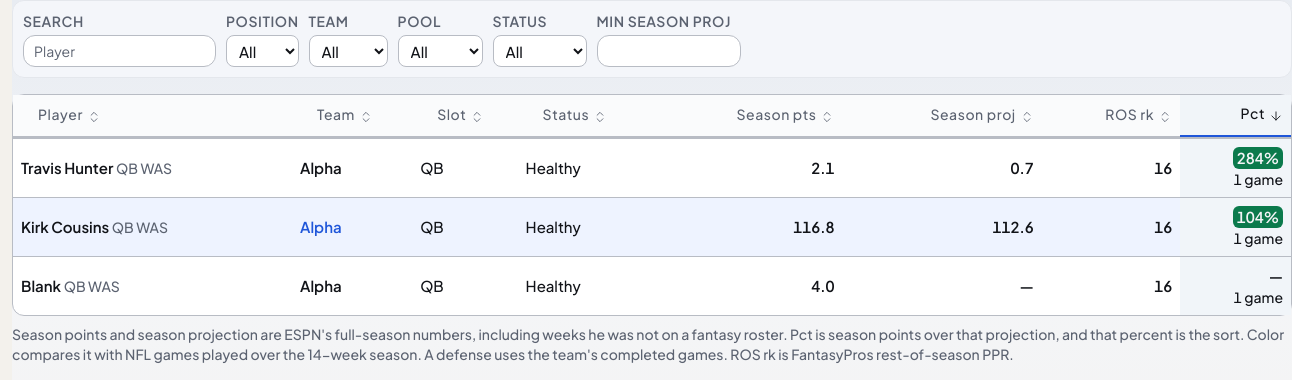
Scenario: AcquireTable pace › hides a season projection below the minimum
In the field labelled "Min season proj": (669, 51) [597,35,741,67], type "10"
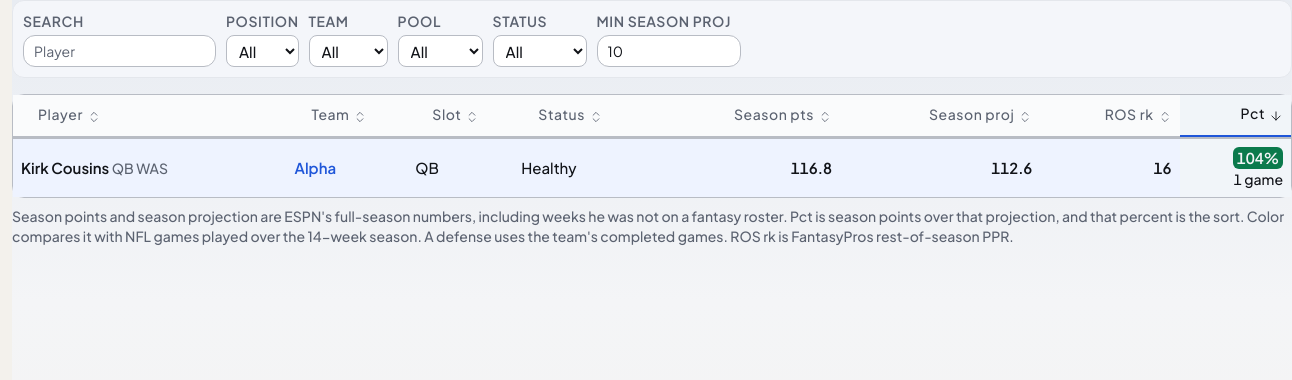
Check: the text "Kirk Cousins" is shown, box [21,158,109,176]
Check: the text "Travis Hunter" is gone
Check: the text "Blank" is gone
